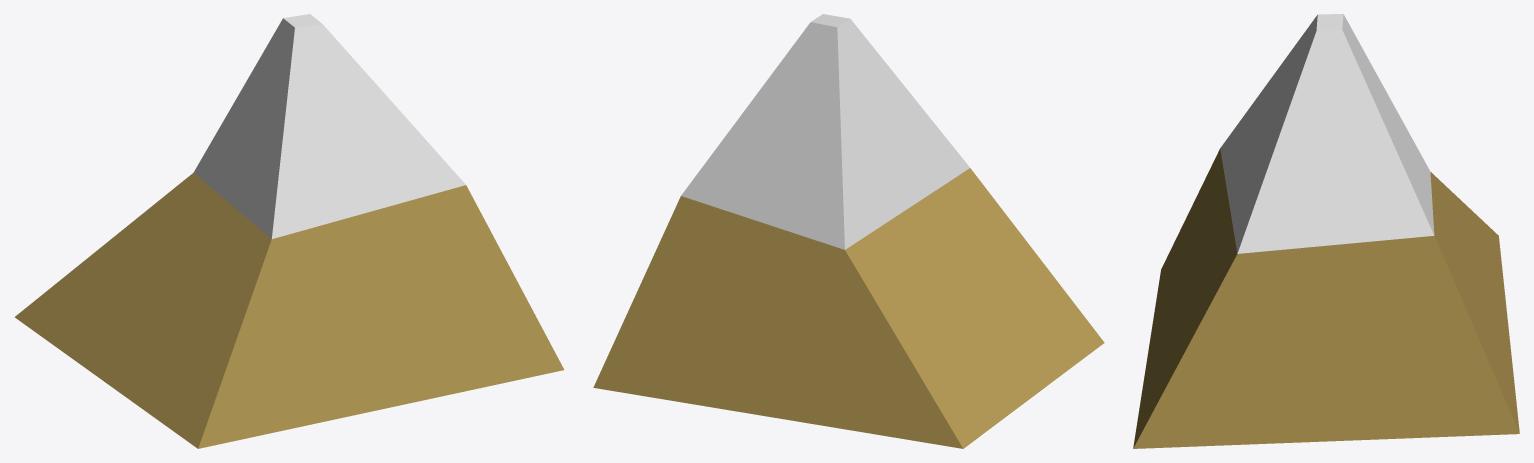
Rendered from Mountain.fbx.
3 views of the same model, side by side, from view 1: azimuth 30°, elevation 25°; view 2: azimuth 150°, elevation 25°; view 3: azimuth 270°, elevation 25° (orthographic). The views are drawn at different scales.
Visible parts, largest first — view 1: Cube.001; view 2: Cube.001; view 3: Cube.001.
Part boxes in pixels (left/top/right/bottom): Cube.001: left=15, top=14, right=564, bottom=448; Cube.001: left=593, top=14, right=1104, bottom=448; Cube.001: left=1133, top=14, right=1519, bottom=448.
Bounding box in the file's own units: 177 × 210 × 173.
